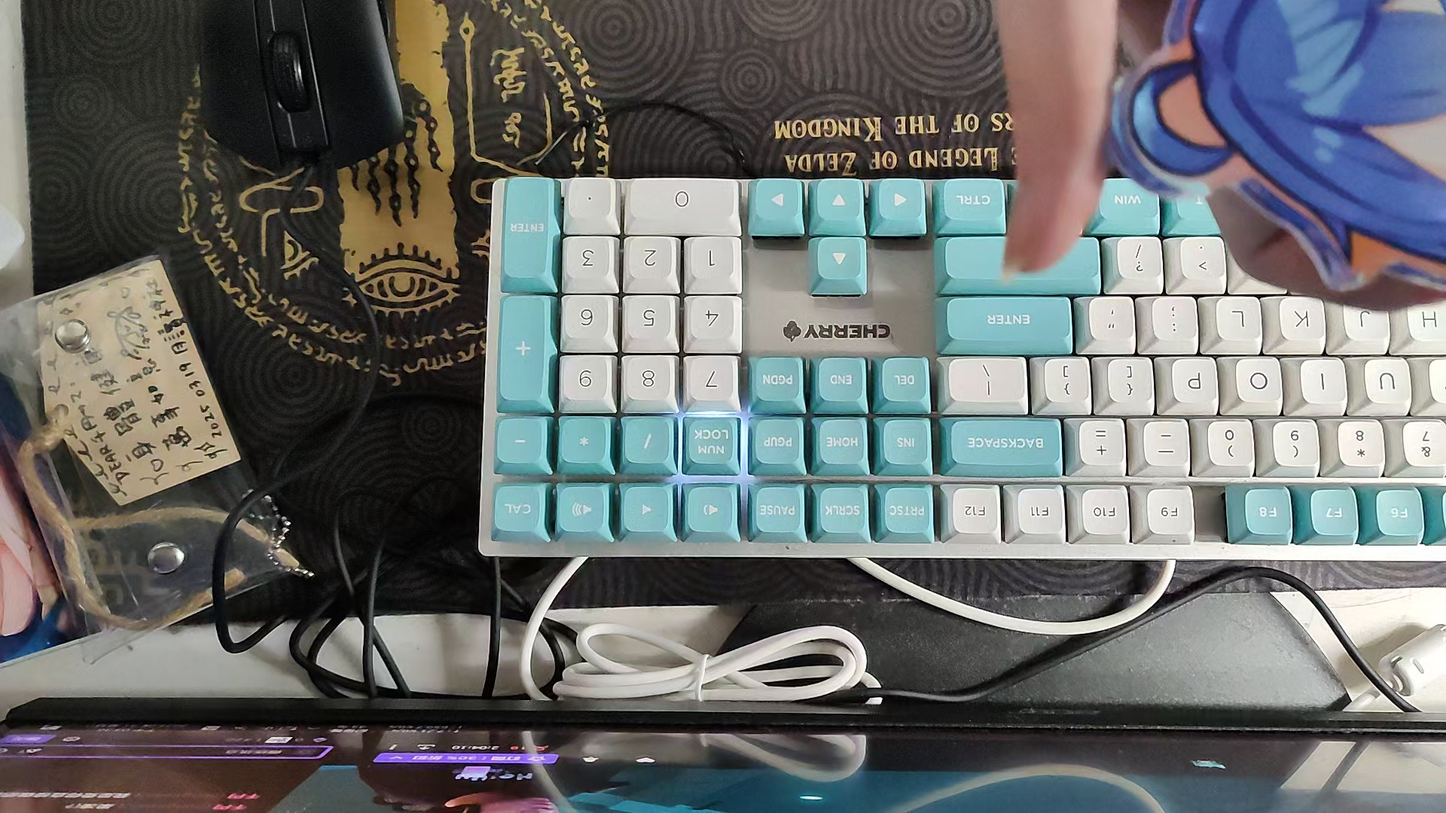Yanami-anna: (1100, 0, 1446, 298)
